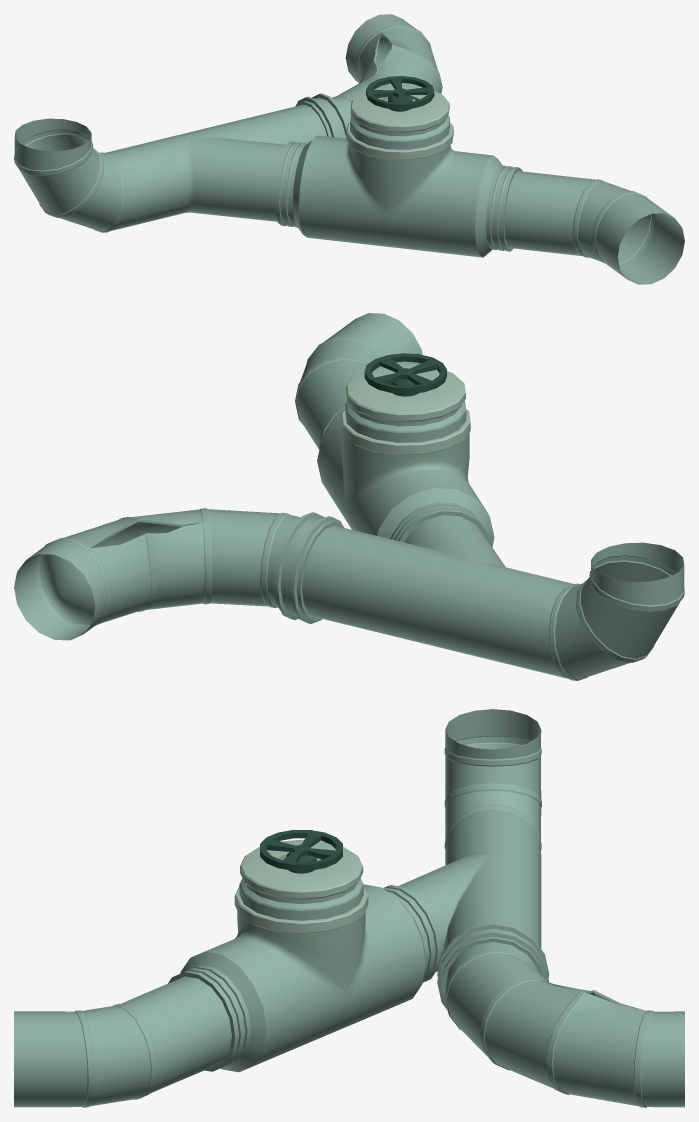
File: PipeComplexLarge_B_08.fbx
The picture shows the model from 3 angles, top to bottom: view 1: azimuth 30°, elevation 25°; view 2: azimuth 150°, elevation 25°; view 3: azimuth 270°, elevation 25°; orthographic projection. The views are drawn at different scales.
Parts seen in each view (by area): view 1: PipeComplexLarge_B_08.001; view 2: PipeComplexLarge_B_08.001; view 3: PipeComplexLarge_B_08.001.
Part boxes in pixels (<box>): PipeComplexLarge_B_08.001: <box>14,14,684,284</box>; PipeComplexLarge_B_08.001: <box>14,313,684,680</box>; PipeComplexLarge_B_08.001: <box>14,709,684,1107</box>.
Size of the model in its own units: 1.4 by 0.4338 by 1.4.
